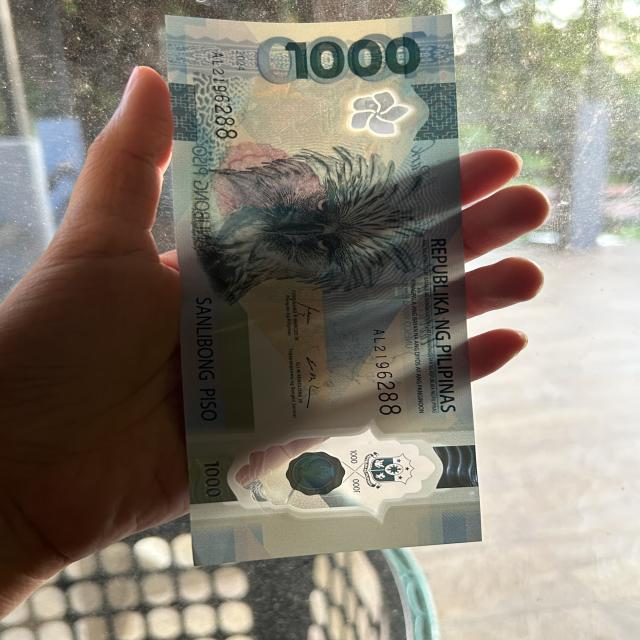clear_window: (237, 432, 453, 520)
eagle: (209, 146, 415, 296)
sampaguita: (348, 91, 410, 134)
